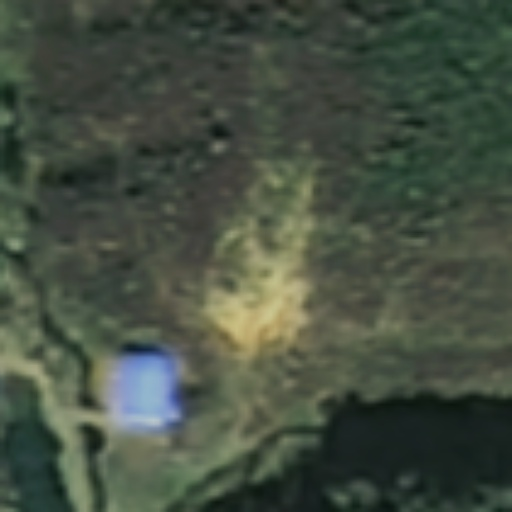landslide: (206, 158, 318, 358)
